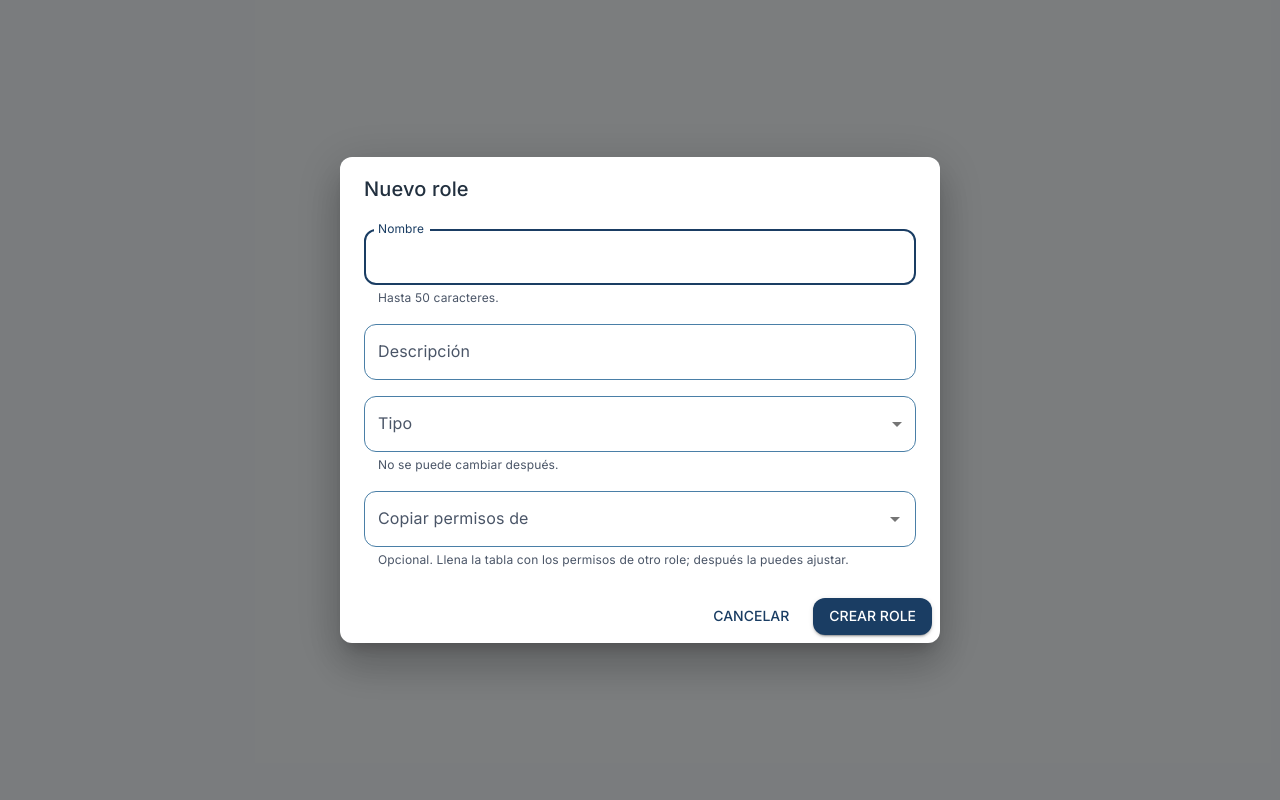
RoleFormDialog › requires a name, without creating anything (US2-4)
This screenshot has width=1280, height=800.
Click the button "Crear role".
click(873, 616)  # box [813,598,932,635]
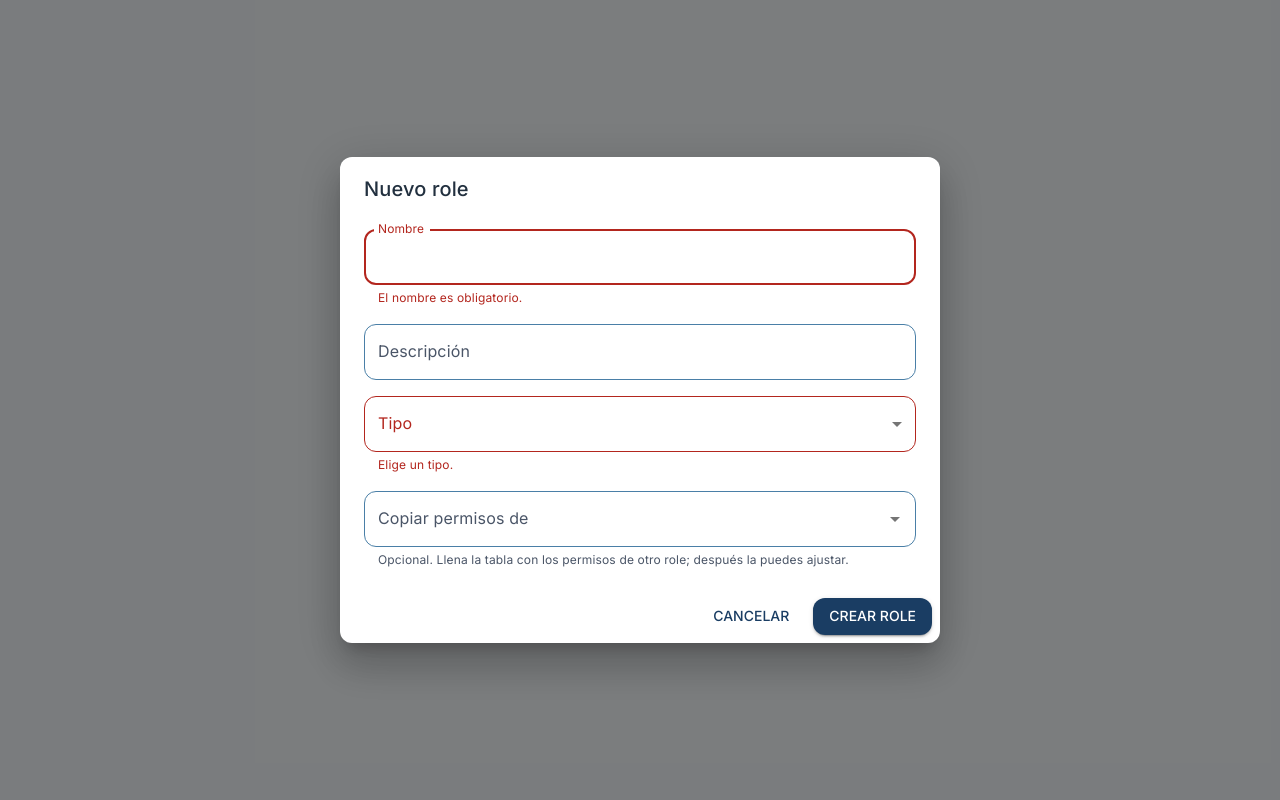
expect the text "El nombre es obligatorio." is shown: met, box [378,290,522,305]
